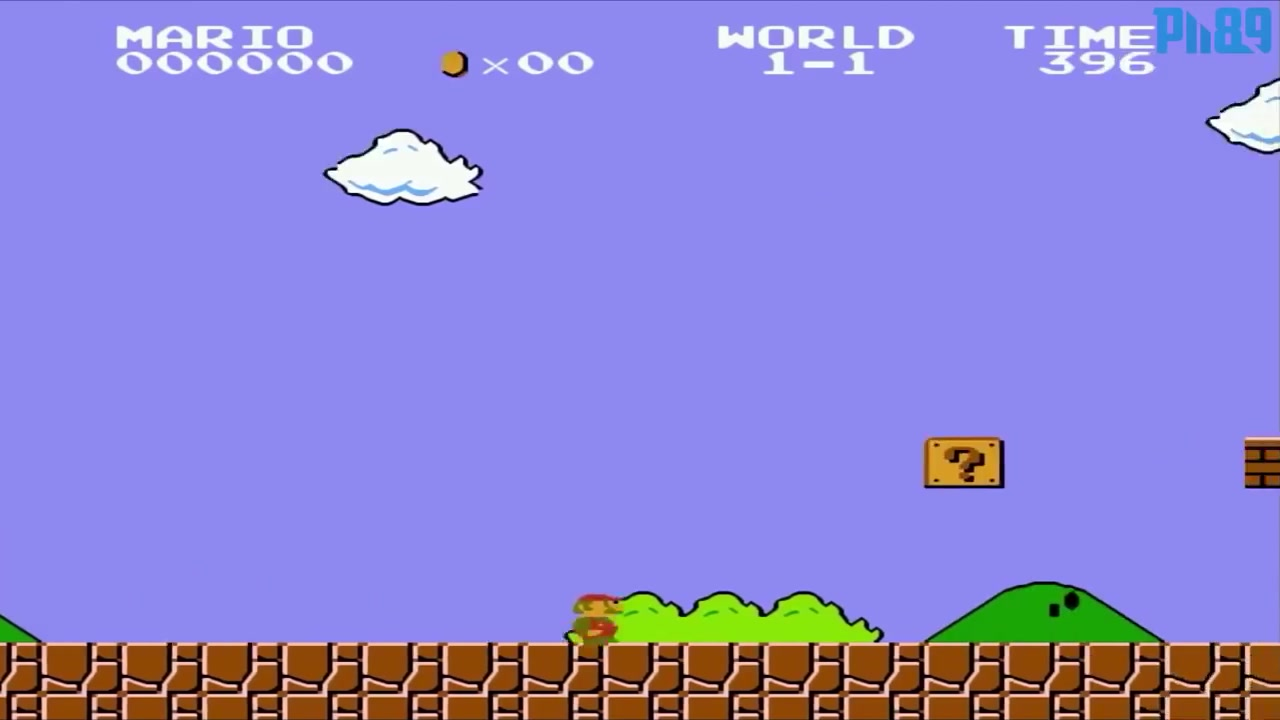mario: (555, 588, 625, 646)
